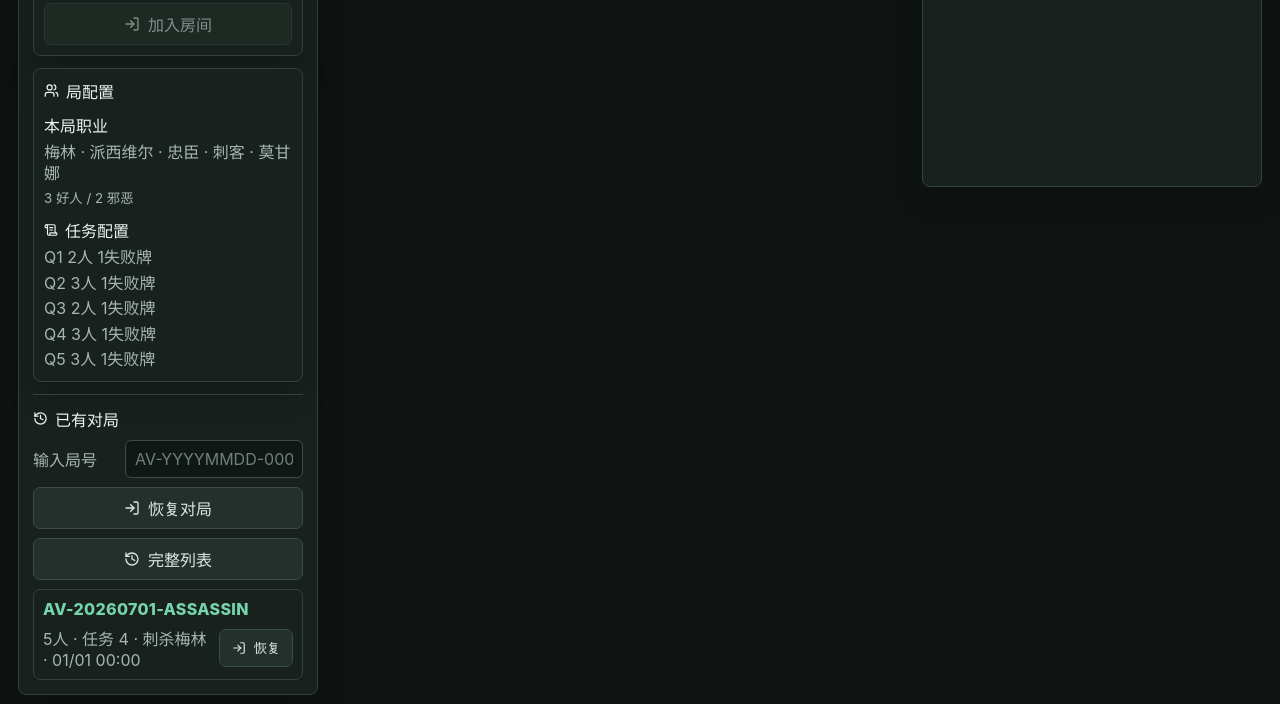
Avalon app › only shows good players as human Assassin targets
(page scrolled)
Click the button "AV-20260701-ASSASSIN".
click(146, 609)  # box [43,599,249,619]
(page scrolled)
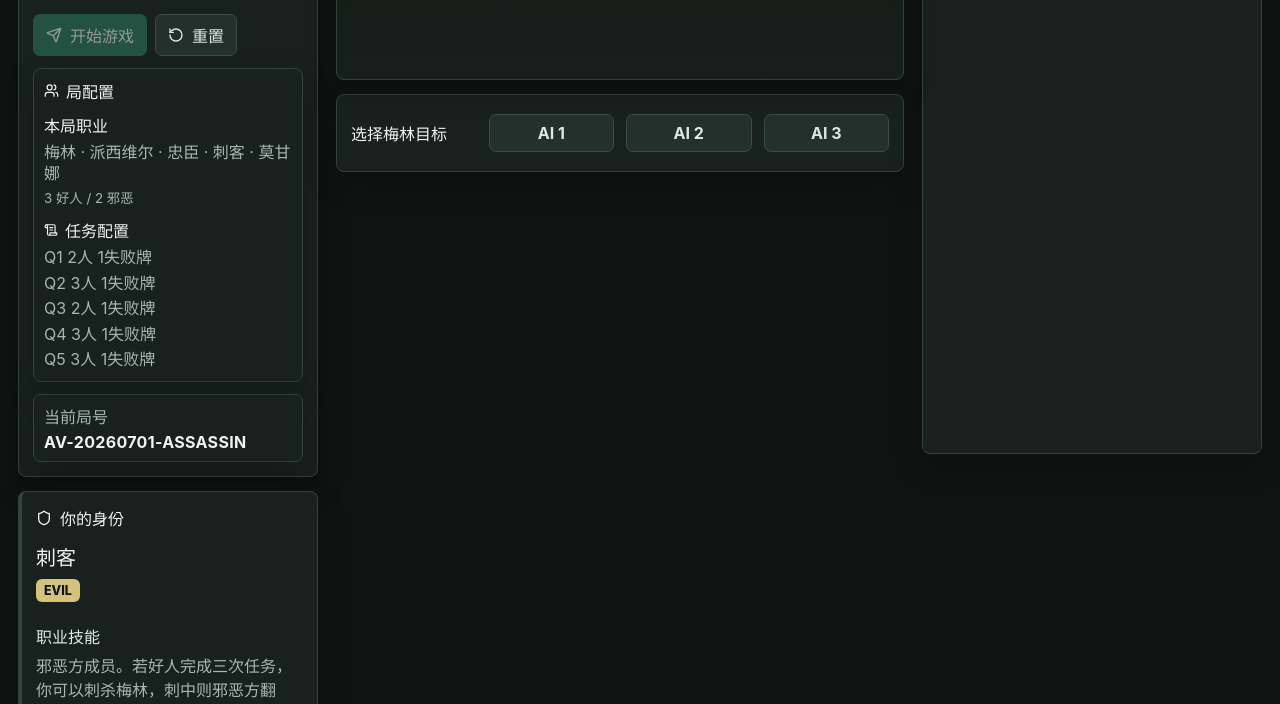
Now the button "AI 1" is shown, box [488,114,614,152]
Now the button "AI 2" is shown, box [626,114,752,152]
Now the button "AI 3" is shown, box [764,114,889,152]
